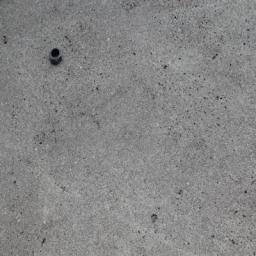FOD: (46, 47, 67, 68)
